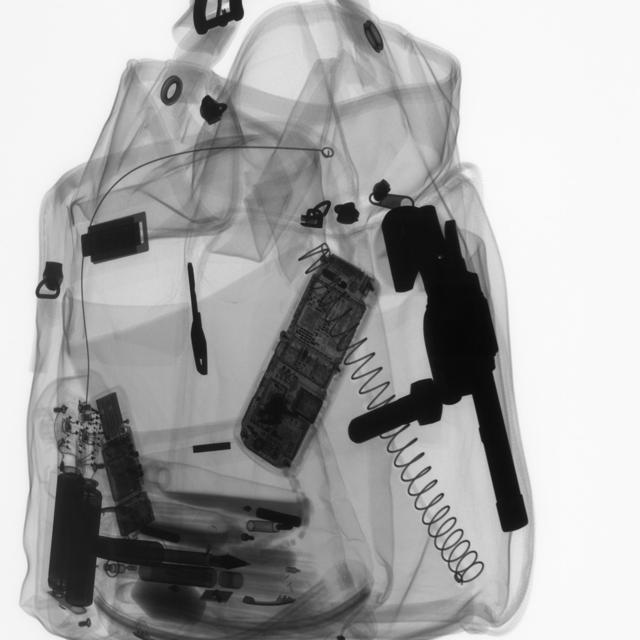gun: (349, 201, 538, 538)
